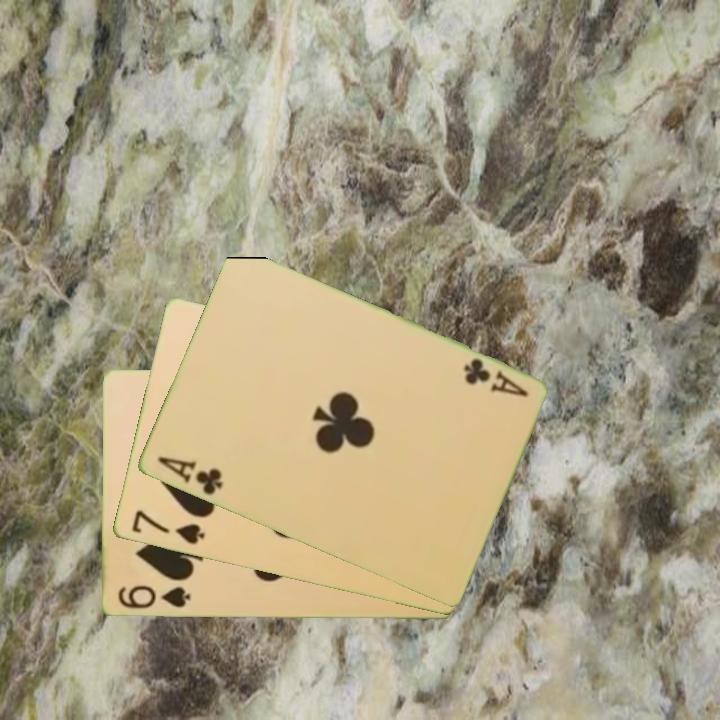6s: (114, 582, 193, 612)
7s: (127, 507, 208, 548)
Ac: (153, 453, 225, 499), (459, 355, 531, 401)
